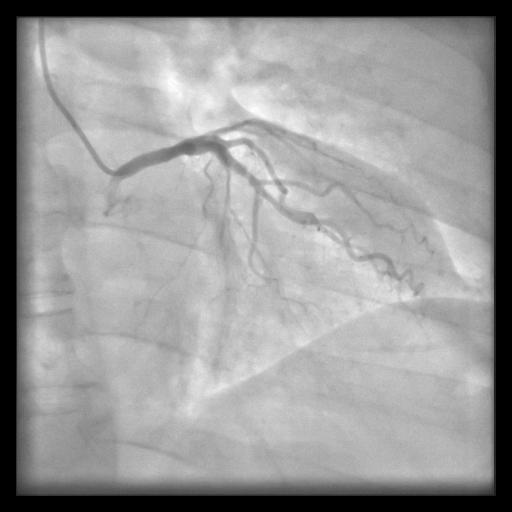Stenosis: (242, 164, 252, 185)
